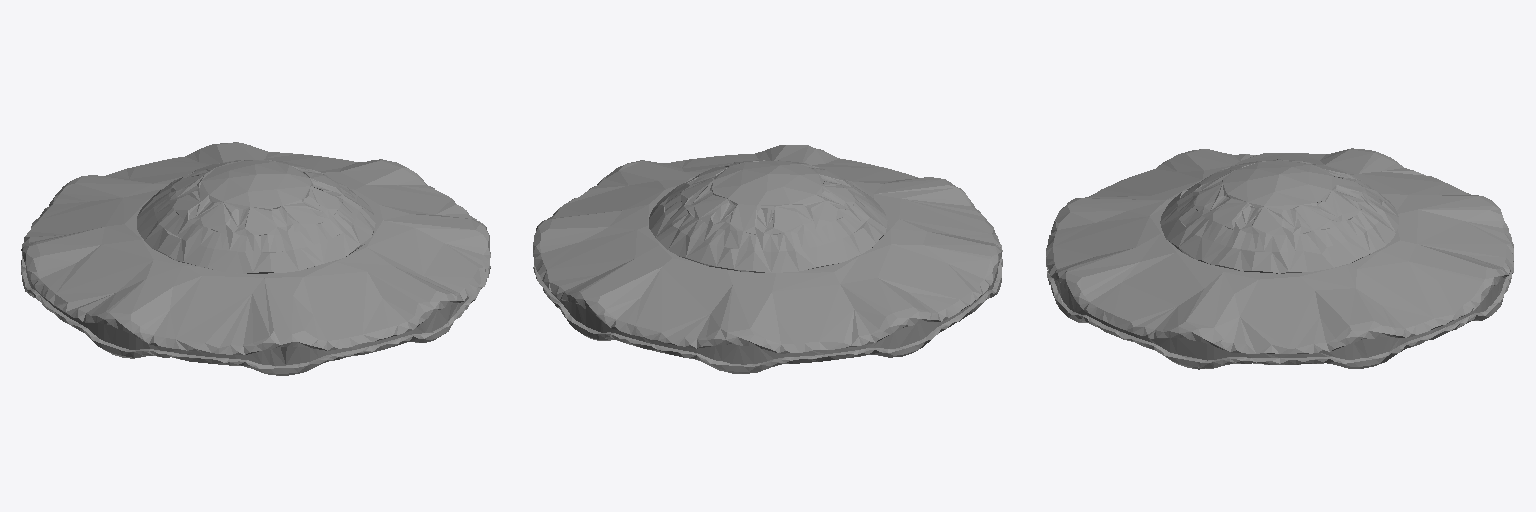
Rendered from frame_033.obj.
3 views of the same model, side by side, from view 1: azimuth 30°, elevation 25°; view 2: azimuth 150°, elevation 25°; view 3: azimuth 270°, elevation 25° (orthographic).
Parts seen in each view (by area): view 1: 13884_UFO_Saucer_v1_l2; view 2: 13884_UFO_Saucer_v1_l2; view 3: 13884_UFO_Saucer_v1_l2.
Boxes of the visible parts, x1,y1,x2,y2 form: 13884_UFO_Saucer_v1_l2: [21, 142, 490, 375]; 13884_UFO_Saucer_v1_l2: [533, 145, 1002, 373]; 13884_UFO_Saucer_v1_l2: [1046, 148, 1513, 369].
Size of the model in its own units: 12.69 by 4.88 by 12.7.